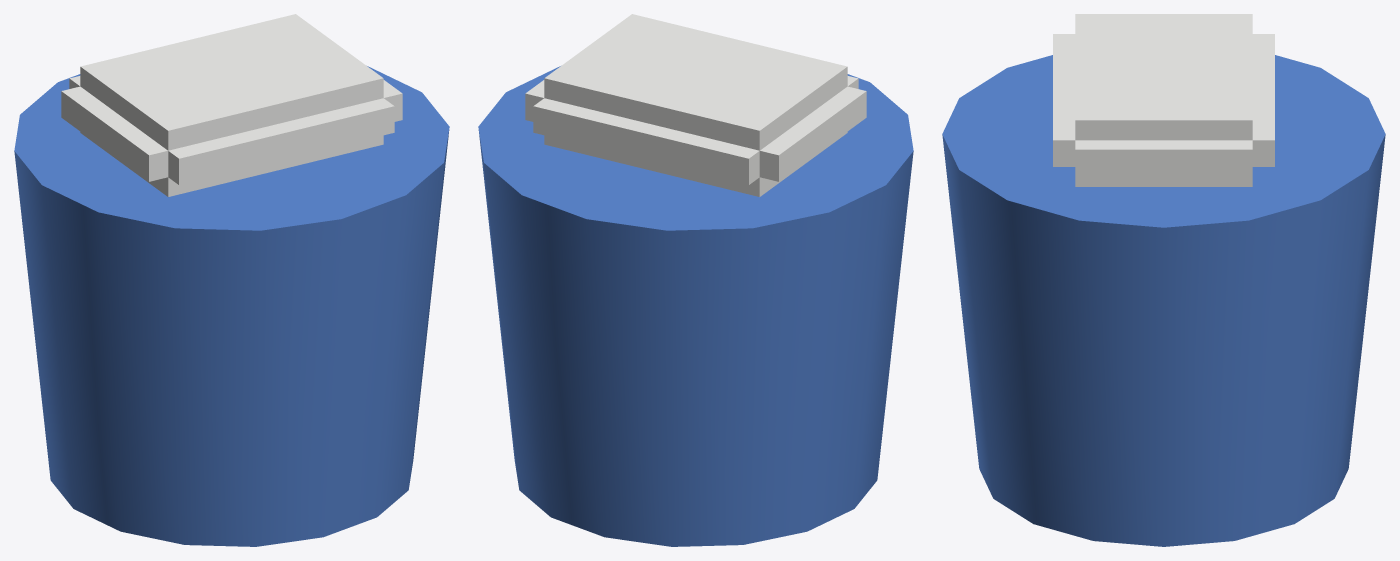
Rendered from laundry_basket.glb.
The picture shows the model from 3 angles, left to right: view 1: azimuth 30°, elevation 25°; view 2: azimuth 150°, elevation 25°; view 3: azimuth 270°, elevation 25°; orthographic projection.
Visible parts, largest first — view 1: laundry_basket; view 2: laundry_basket; view 3: laundry_basket.
Boxes of the visible parts, left/top/right/bottom form: laundry_basket: left=14, top=14, right=449, bottom=546; laundry_basket: left=478, top=14, right=913, bottom=546; laundry_basket: left=942, top=14, right=1385, bottom=546.
Bounding box in the file's own units: 0.6 × 0.6 × 0.6.
